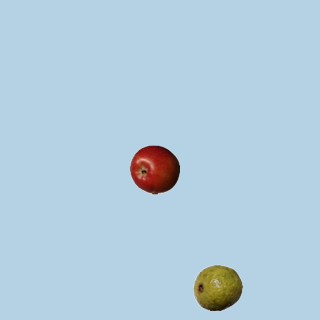Apple Braeburn: (129, 144, 179, 194)
Guava: (192, 262, 242, 312)
